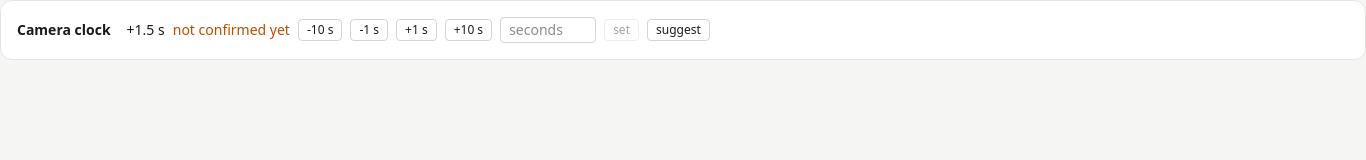
Test case: ClockPanel › shows error if suggestion fails
This screenshot has width=1366, height=160.
Click the button "suggest" at (678, 30), box [647,19,710,41]
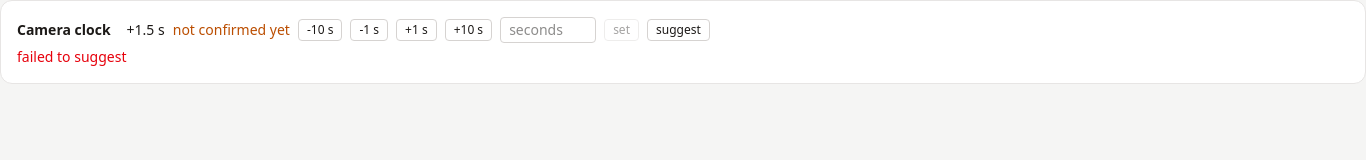
Now the text "failed to suggest" is shown, box [17,47,126,66]
